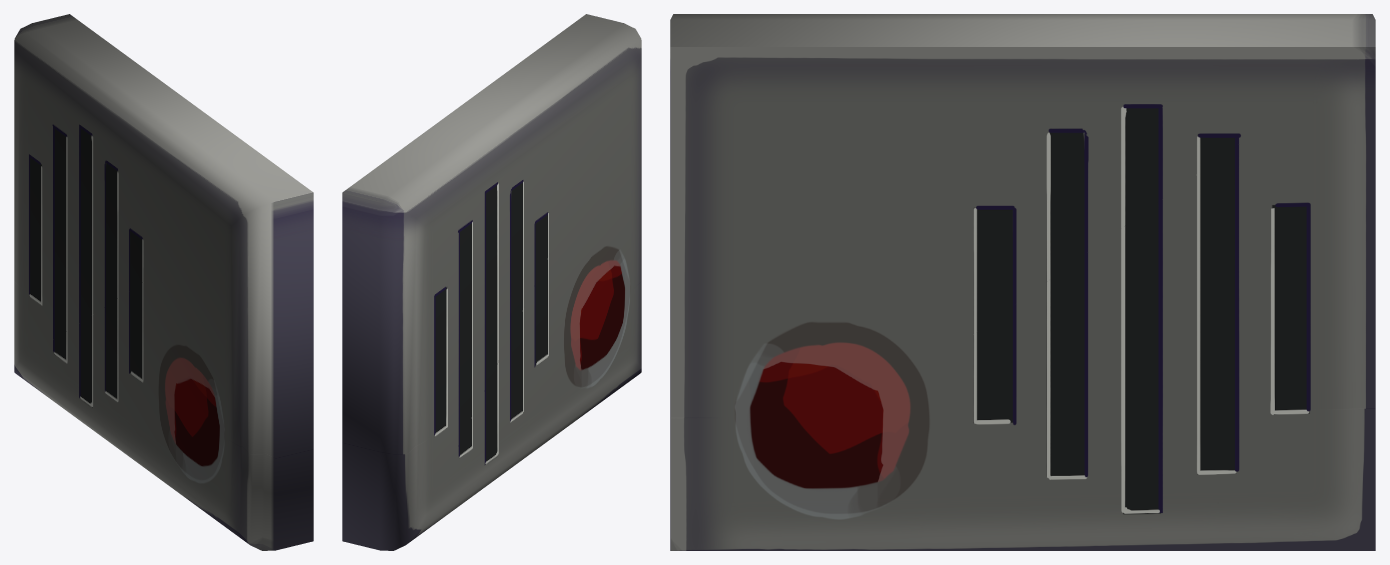
File: intercom.FBX
3 renders of one model, left to right at view 1: azimuth 30°, elevation 25°; view 2: azimuth 150°, elevation 25°; view 3: azimuth 270°, elevation 25°, orthographic. The views are drawn at different scales.
Parts seen in each view (by area): view 1: _intercom; view 2: _intercom; view 3: _intercom.
Boxes of the visible parts, bbox=[...] form: _intercom: bbox=[14, 14, 313, 550]; _intercom: bbox=[342, 14, 641, 550]; _intercom: bbox=[670, 14, 1375, 550].
Bounding box in the file's own units: 0.0871 × 0.4369 × 0.554.
